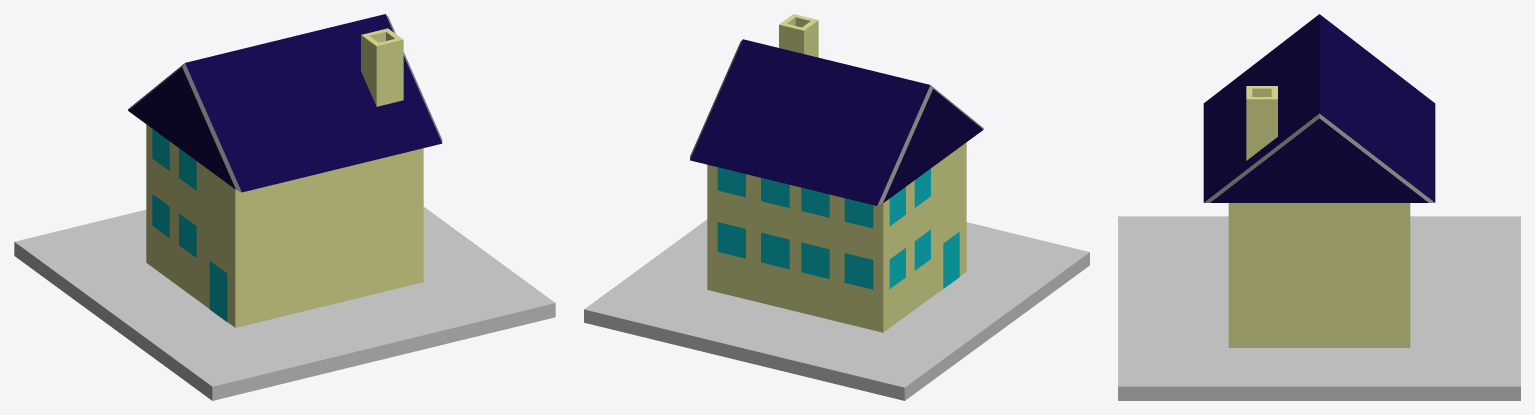
File: casaalt.fbx
The picture shows the model from 3 angles, left to right: view 1: azimuth 30°, elevation 25°; view 2: azimuth 150°, elevation 25°; view 3: azimuth 270°, elevation 25°; orthographic projection. The views are drawn at different scales.
Parts seen in each view (by area): view 1: Cube, Cube.001, Cube.002, Cube.003, Plane.006, Plane.011, Plane.012, Plane.005, Plane.004; view 2: Cube, Cube.002, Cube.001, Cube.003, Plane.008, Plane.010, Plane.009, Plane.007, Plane.006, Plane.002, Plane, Plane.003 (+5 smaller); view 3: Cube, Cube.002, Cube.001, Cube.003.
Part boxes in pixels (<box>): Cube: <box>14,207,555,400</box>; Cube.001: <box>146,28,423,327</box>; Cube.002: <box>128,14,442,192</box>; Cube.003: <box>128,14,442,192</box>; Plane.006: <box>209,261,227,321</box>; Plane.011: <box>179,213,196,257</box>; Plane.012: <box>152,194,169,237</box>; Plane.005: <box>179,148,196,190</box>; Plane.004: <box>152,129,169,170</box>; Cube: <box>584,219,1089,400</box>; Cube.002: <box>690,39,983,205</box>; Cube.001: <box>707,14,966,332</box>; Cube.003: <box>690,39,983,205</box>; Plane.008: <box>844,253,873,289</box>; Plane.010: <box>717,222,745,258</box>; Plane.009: <box>761,232,789,269</box>; Plane.007: <box>801,242,829,278</box>; Plane.006: <box>943,232,959,288</box>; Plane.002: <box>844,198,873,228</box>; Plane: <box>717,167,745,197</box>; Plane.003: <box>801,187,829,217</box>; Cube: <box>1118,216,1520,400</box>; Cube.002: <box>1203,14,1435,202</box>; Cube.001: <box>1228,86,1410,347</box>; Cube.003: <box>1204,113,1434,202</box>.
Bounding box in the file's own units: 200 × 160 × 200.
